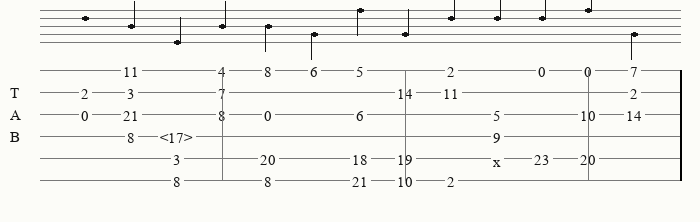0: (81, 107, 93, 121), (264, 107, 276, 121), (538, 63, 550, 77), (584, 63, 596, 77)
10: (397, 173, 417, 187), (580, 107, 600, 121)
11: (123, 63, 143, 77), (443, 85, 463, 99)
14: (397, 85, 417, 99), (626, 107, 646, 121)
18: (352, 151, 372, 165)
19: (397, 151, 417, 165)
2: (81, 85, 93, 99), (447, 173, 459, 187), (447, 63, 459, 77), (630, 85, 642, 99)
20: (260, 151, 280, 165), (580, 151, 600, 165)
21: (123, 107, 143, 121), (352, 173, 372, 187)
23: (534, 151, 554, 165)
3: (127, 85, 139, 99), (173, 151, 185, 165)
4: (218, 63, 230, 77)
5: (356, 63, 368, 77), (493, 107, 505, 121)
6: (310, 63, 322, 77), (356, 107, 368, 121)
7: (218, 85, 230, 99), (630, 63, 642, 77)
8: (127, 129, 139, 143), (173, 173, 185, 187), (218, 107, 230, 121), (264, 173, 276, 187), (264, 63, 276, 77)
9: (493, 129, 505, 143)
harmonic: (160, 129, 197, 143)
x: (493, 153, 505, 164)
